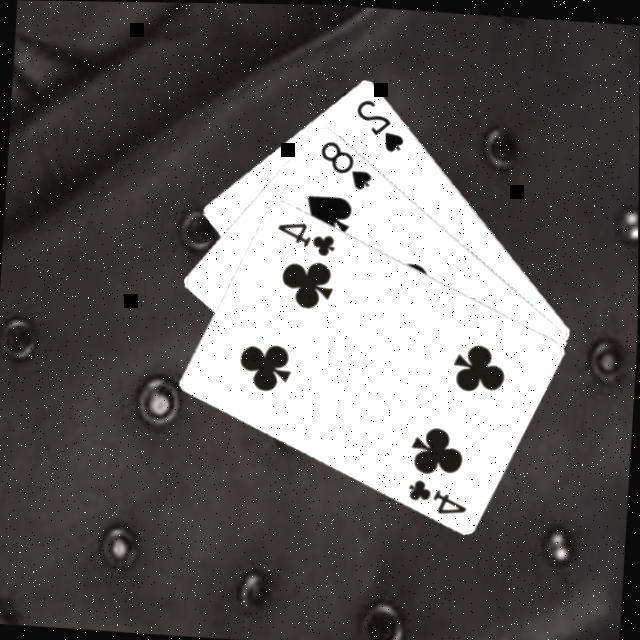2S: (350, 92, 408, 154)
4C: (402, 472, 469, 516), (271, 215, 337, 257)
8S: (312, 133, 376, 191)
